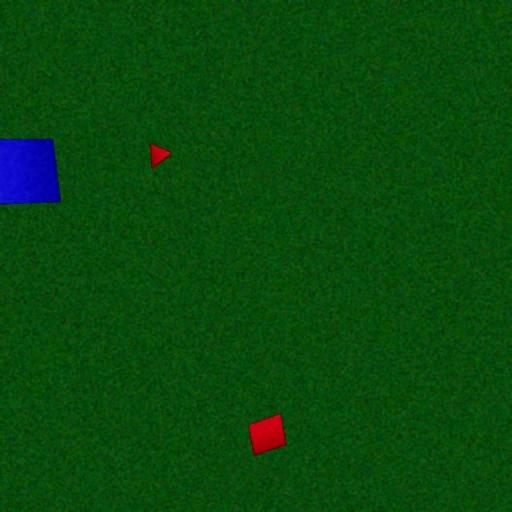BLUE_SQUARE: (0, 138, 61, 206)
RED_SQUARE: (248, 413, 287, 456)
